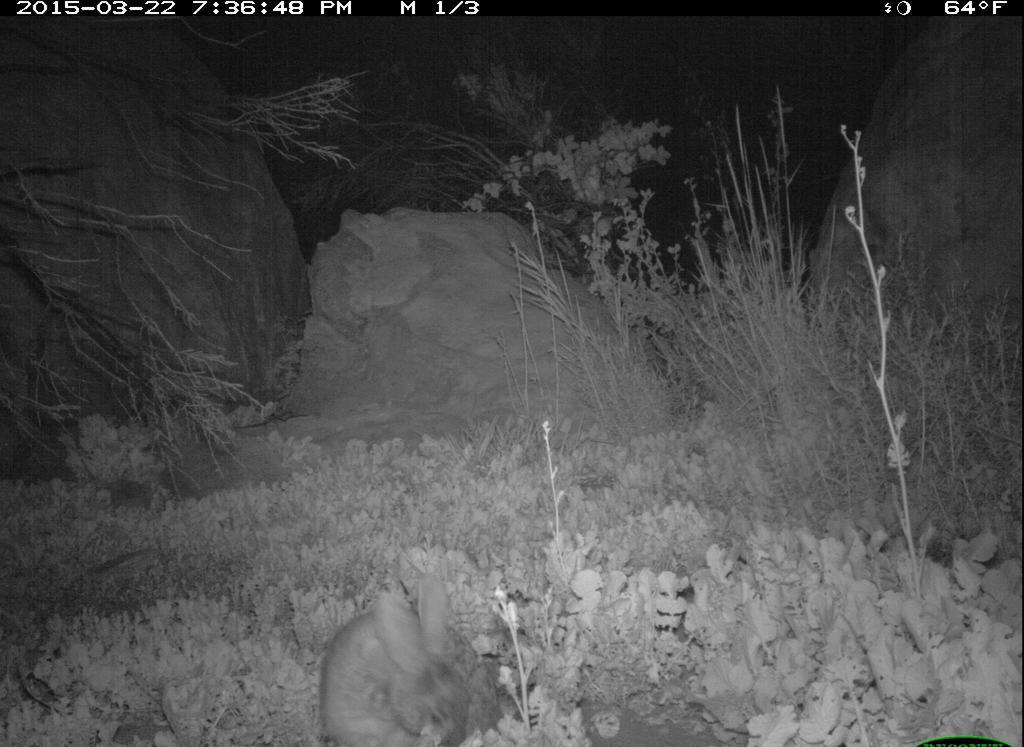rabbit: (299, 555, 498, 747)
